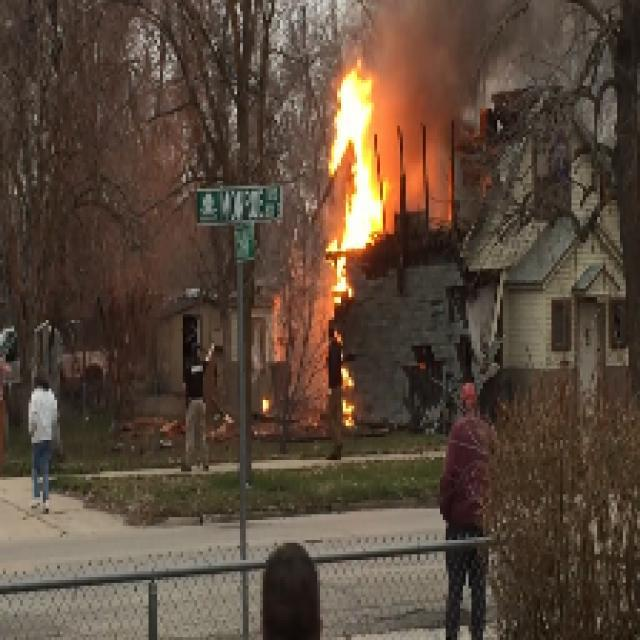Fire: (332, 66, 392, 254)
Smoke: (390, 15, 468, 156)
